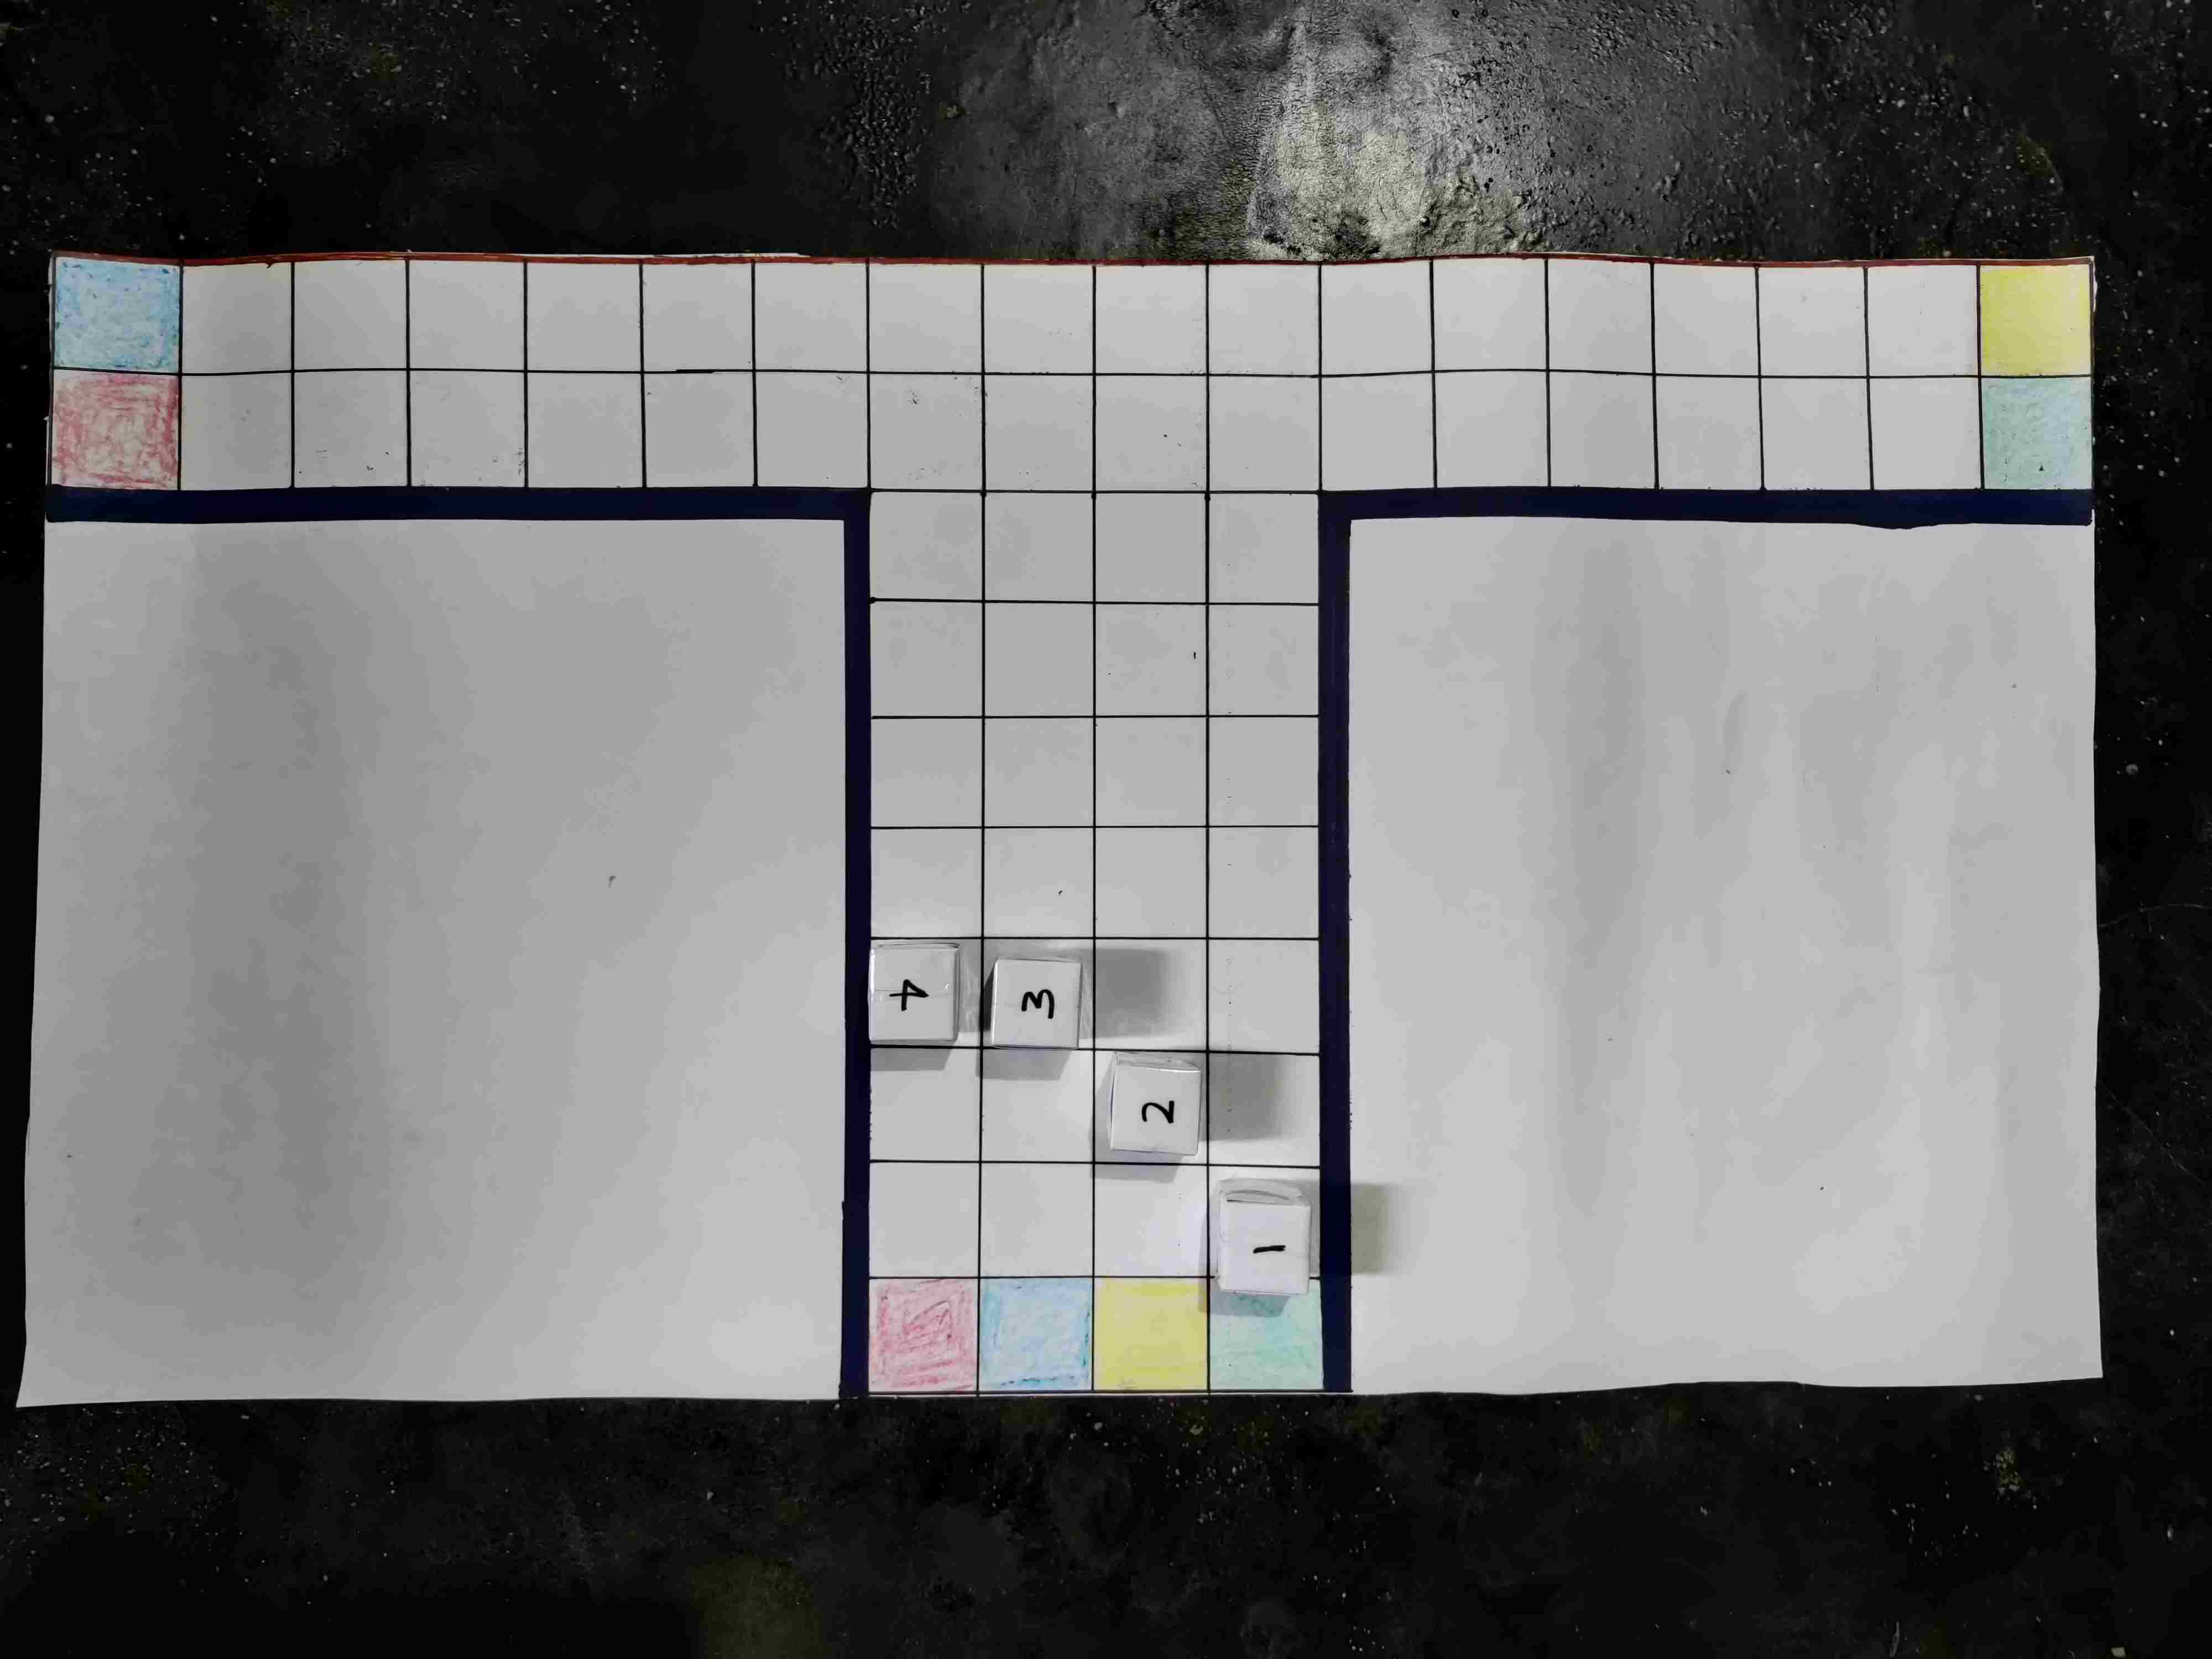arena: (303, 173, 2212, 1209)
bot: (1827, 1129, 1916, 1209), (1057, 911, 1146, 990), (1402, 929, 1484, 1012), (981, 1134, 1062, 1211)
